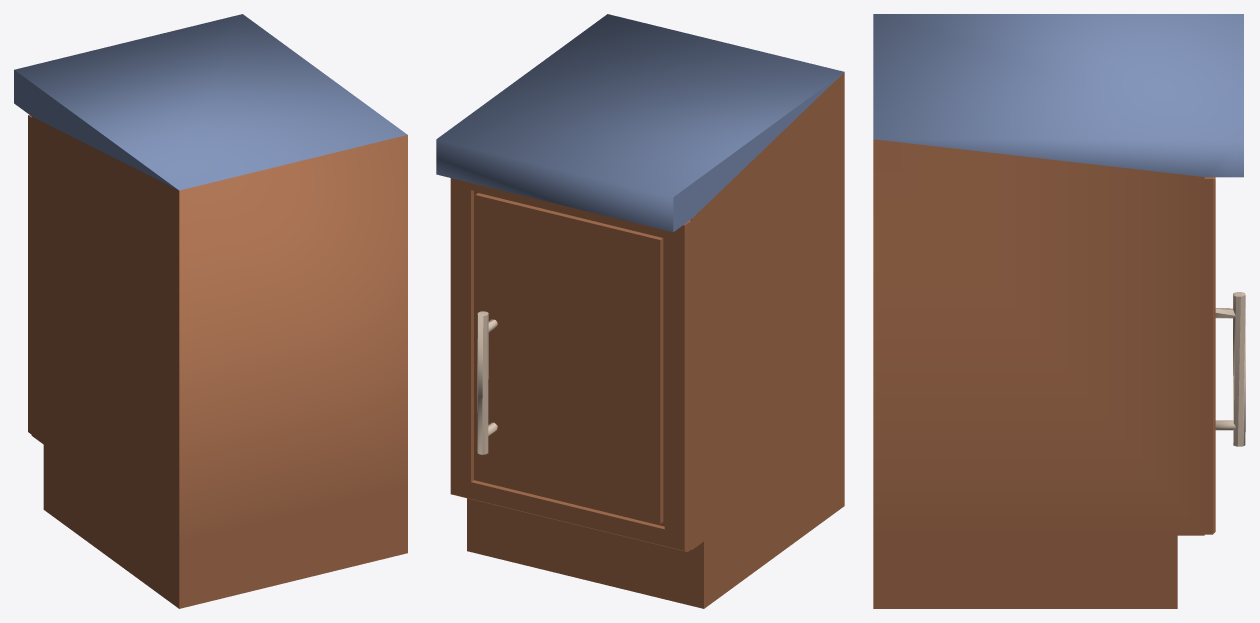
File: cabinet_kitches_left_handle.fbx
The picture shows the model from 3 angles, left to right: view 1: azimuth 30°, elevation 25°; view 2: azimuth 150°, elevation 25°; view 3: azimuth 270°, elevation 25°; orthographic projection. The views are drawn at different scales.
Visible parts, largest first — view 1: Prop_KitchenCabinet_02_F__1___1_; view 2: Prop_KitchenCabinet_02_F__1___1_, handle; view 3: Prop_KitchenCabinet_02_F__1___1_, handle.
Part boxes in pixels (<box>): Prop_KitchenCabinet_02_F__1___1_: <box>14,14,407,608</box>; Prop_KitchenCabinet_02_F__1___1_: <box>436,14,844,608</box>; handle: <box>477,311,497,454</box>; Prop_KitchenCabinet_02_F__1___1_: <box>873,14,1243,608</box>; handle: <box>1215,292,1245,446</box>.
Size of the model in its own units: 71.89 by 126 by 90.36.
